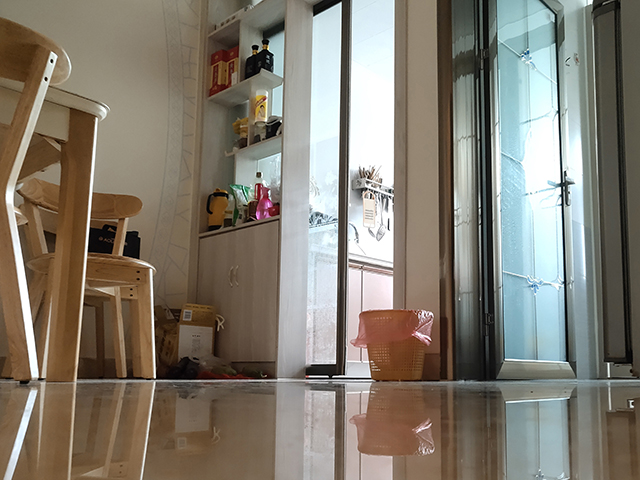cabinet: (186, 218, 301, 380), (344, 252, 394, 379)
stool: (16, 174, 160, 381), (1, 17, 74, 386)
table: (1, 76, 111, 383)
trashcan: (358, 308, 435, 383)
